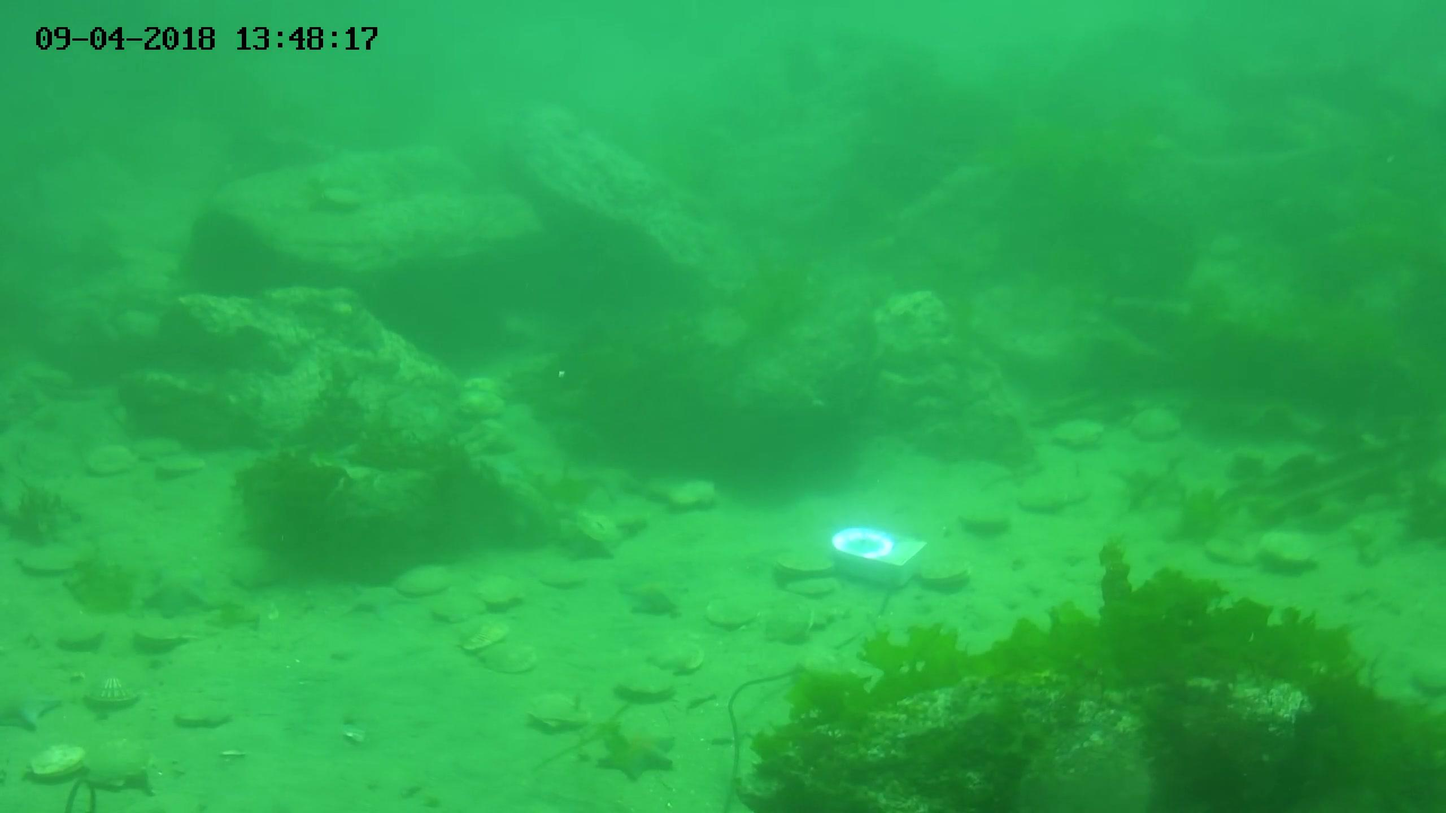holothurian: (600, 724, 678, 780), (1, 686, 58, 731), (336, 582, 389, 626)
scallop: (68, 737, 151, 787), (1014, 471, 1089, 510), (1260, 524, 1318, 574), (132, 617, 201, 658), (703, 591, 763, 631), (18, 541, 88, 575), (484, 638, 543, 677), (524, 692, 586, 729), (616, 661, 669, 703), (916, 548, 971, 588), (452, 614, 508, 653), (28, 744, 88, 779), (1133, 404, 1185, 443), (772, 544, 834, 576), (656, 635, 703, 677), (59, 622, 108, 661), (85, 677, 144, 709), (1052, 416, 1104, 451), (397, 563, 456, 593), (85, 444, 136, 478), (783, 570, 842, 599), (175, 698, 232, 728), (478, 572, 524, 607), (155, 450, 206, 481), (962, 499, 1005, 530), (433, 593, 480, 619)
